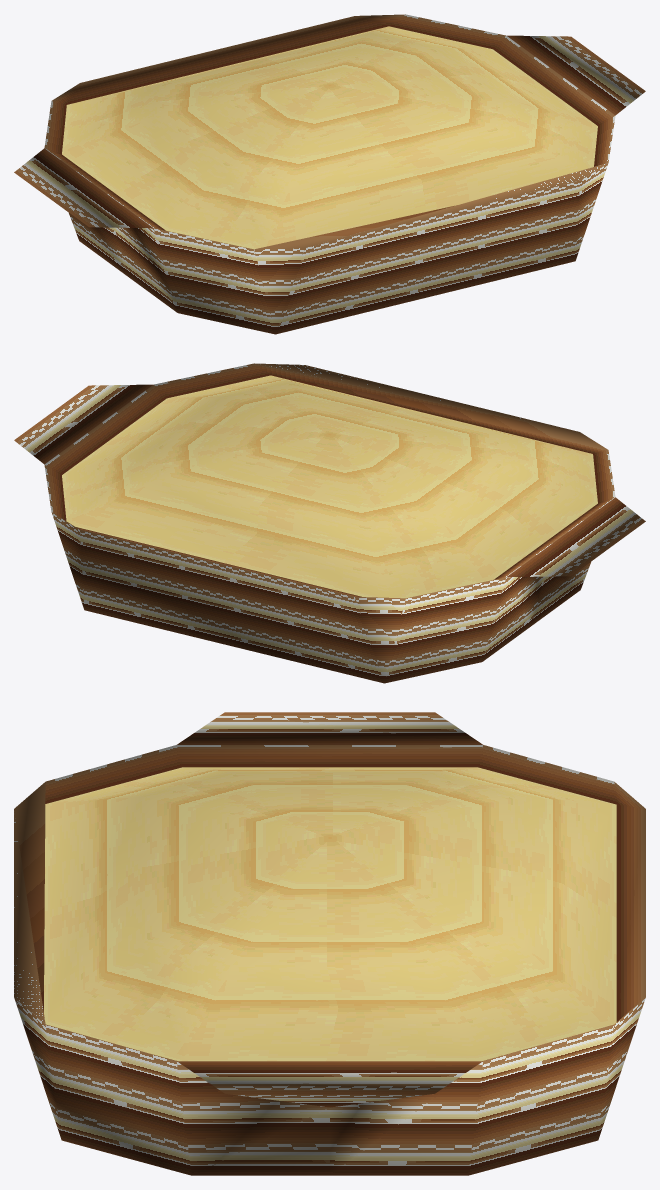
The model's file is 1149ucc_mis_pie1.gltf.
3 views of the same model, one above another, from view 1: azimuth 30°, elevation 25°; view 2: azimuth 150°, elevation 25°; view 3: azimuth 270°, elevation 25° (orthographic). The views are drawn at different scales.
Visible parts, largest first — view 1: 1149ucc_mis_pie1; view 2: 1149ucc_mis_pie1; view 3: 1149ucc_mis_pie1.
Part boxes in pixels (x1=…): 1149ucc_mis_pie1: x1=14, y1=14, x2=645, y2=334; 1149ucc_mis_pie1: x1=14, y1=363, x2=645, y2=683; 1149ucc_mis_pie1: x1=14, y1=712, x2=645, y2=1175.
Size of the model in its own units: 0.7397 by 0.2183 by 0.5178.
Materials: 4 (4 with a texture image).
